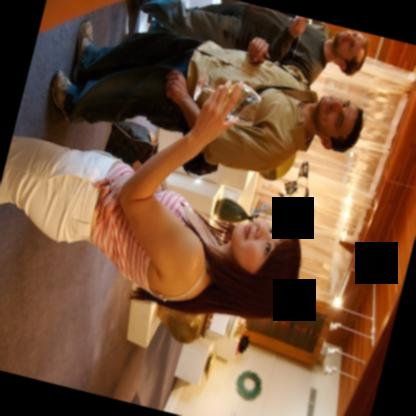handbag: (180, 93, 251, 181), (106, 119, 156, 172), (252, 84, 319, 103)
